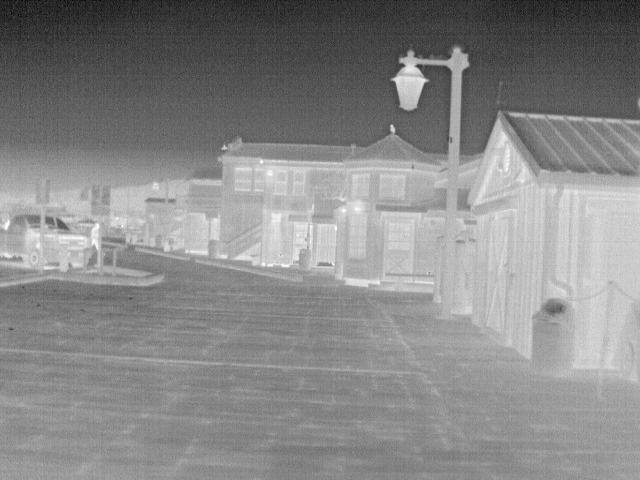car: (1, 213, 94, 272)
person: (85, 220, 103, 254)
